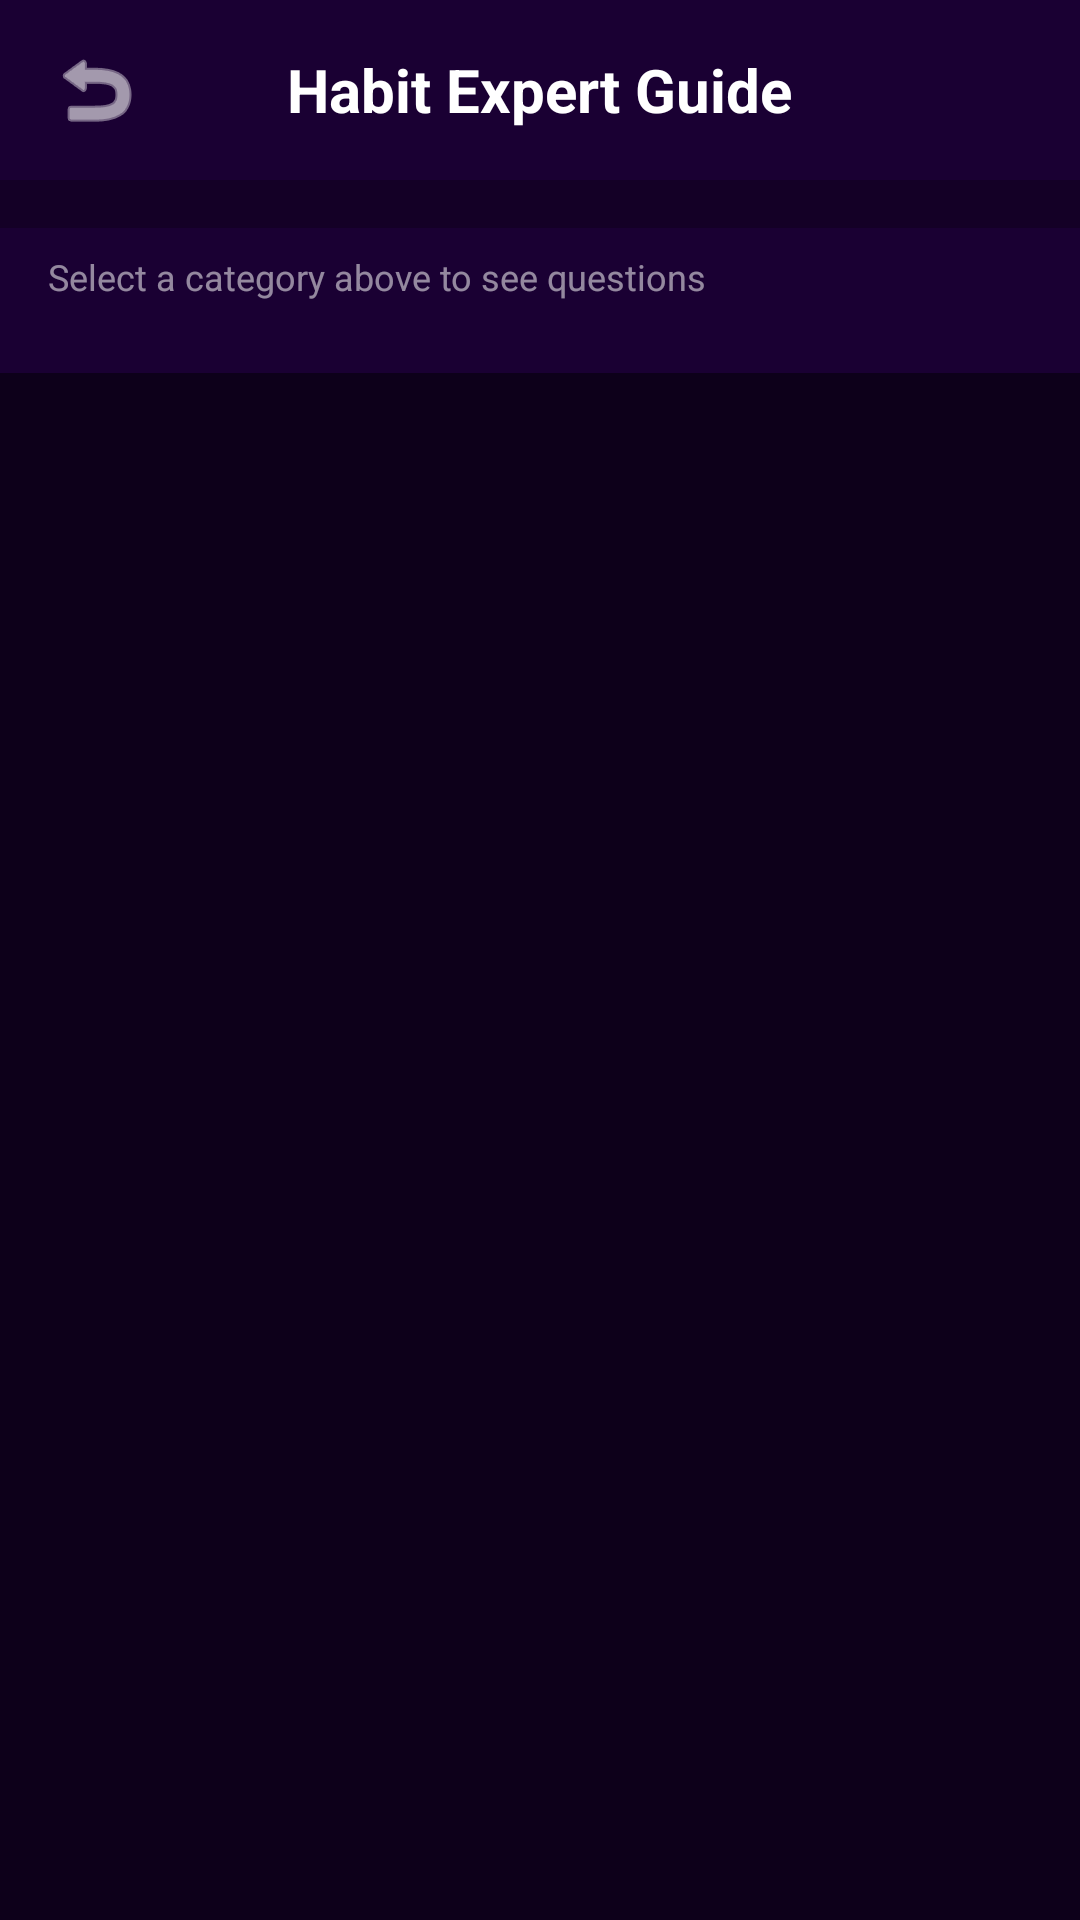

Named icons in this screenshot (1080px×1920px) and their centers, [x,y]:
revert: [97,90]
